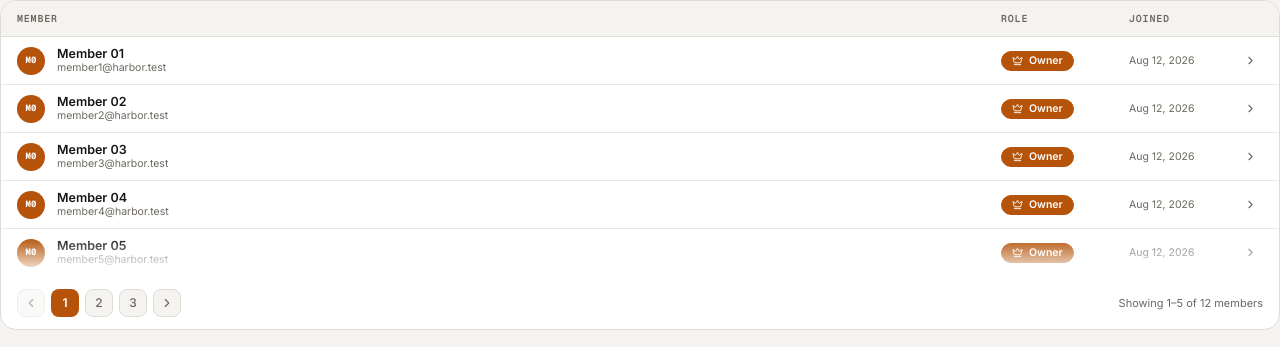
Test case: MembersTable — client-side pagination › jumps straight to a numbered page
This screenshot has width=1280, height=347.
Click the button named "go to page 3": x=133, y=303 [119,289,147,317]
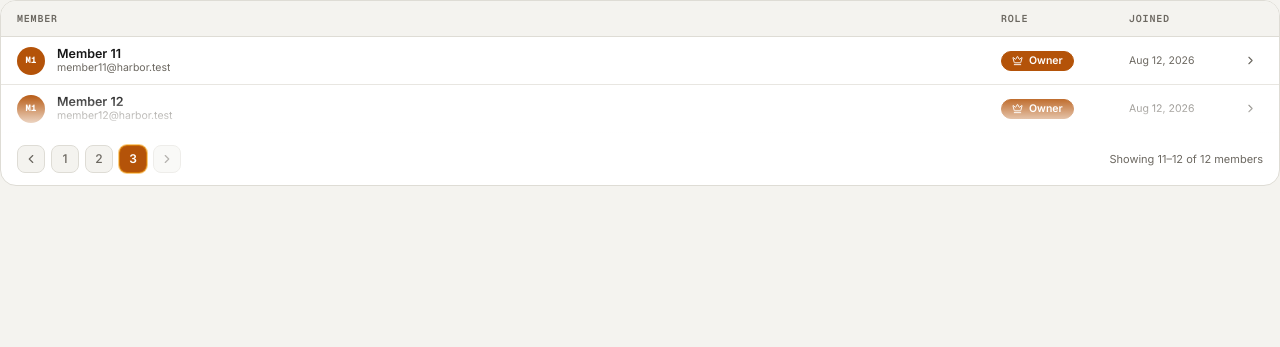
Check: the text "Member 11" is shown, box [57,46,121,60]
Check: the text "Showing 11–12 of 12 members" is shown, box [1110,151,1263,167]
